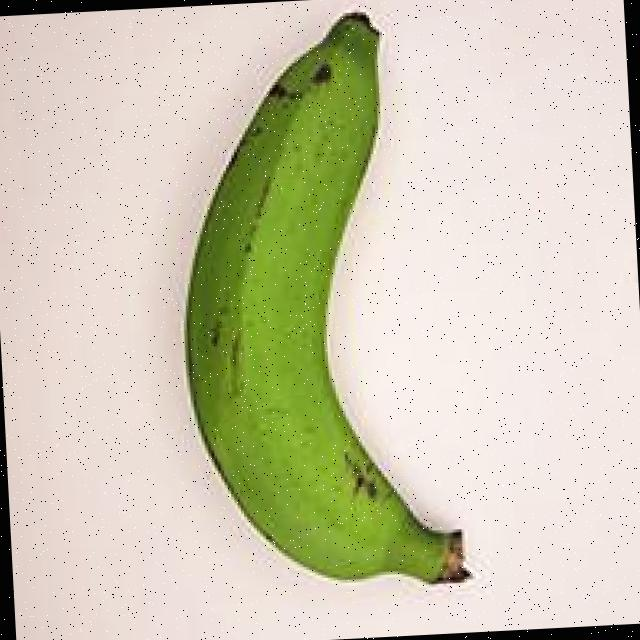Raw: (140, 0, 498, 621)
